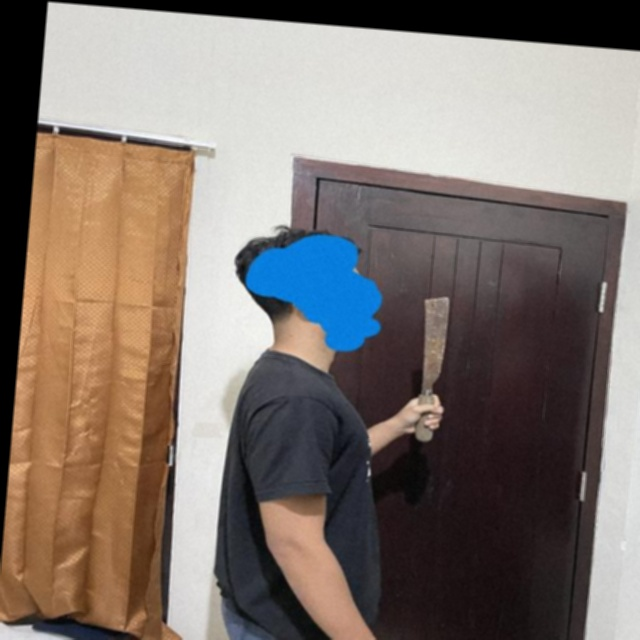Sharp-Object: (412, 293, 452, 444)
